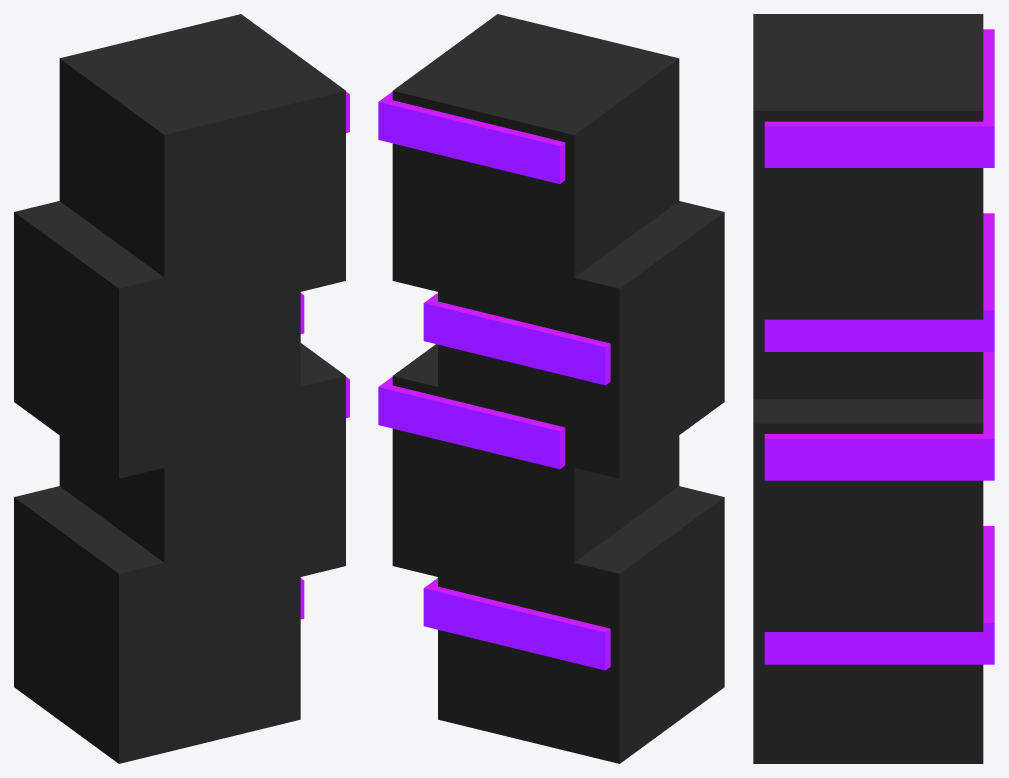
Rendered from building2.fbx.
3 views of the same model, side by side, from view 1: azimuth 30°, elevation 25°; view 2: azimuth 150°, elevation 25°; view 3: azimuth 270°, elevation 25° (orthographic). The views are drawn at different scales.
Visible parts, largest first — view 1: Cube_3, Cube, Cube_2, Cube_1; view 2: Cube_3, Cube, Cube_2, Cube_1, Cube_7, Cube_6, Cube_5, Cube_4; view 3: Cube_3, Cube_1, Cube, Cube_7, Cube_5, Cube_2, Cube_4, Cube_6.
Part boxes in pixels (x1=…): Cube_3: x1=59, y1=14, x2=345, y2=324; Cube: x1=14, y1=486, x2=300, y2=763; Cube_2: x1=14, y1=201, x2=300, y2=478; Cube_1: x1=59, y1=343, x2=345, y2=610; Cube_3: x1=392, y1=14, x2=679, y2=324; Cube: x1=438, y1=486, x2=724, y2=763; Cube_2: x1=438, y1=201, x2=724, y2=478; Cube_1: x1=392, y1=344, x2=679, y2=609; Cube_7: x1=378, y1=91, x2=565, y2=183; Cube_6: x1=423, y1=293, x2=610, y2=385; Cube_5: x1=378, y1=377, x2=565, y2=469; Cube_4: x1=423, y1=578, x2=610, y2=670; Cube_3: x1=753, y1=14, x2=983, y2=319; Cube_1: x1=753, y1=399, x2=983, y2=631; Cube: x1=753, y1=632, x2=983, y2=763; Cube_7: x1=764, y1=29, x2=994, y2=167; Cube_5: x1=764, y1=352, x2=994, y2=480; Cube_2: x1=753, y1=319, x2=983, y2=399; Cube_4: x1=764, y1=526, x2=994, y2=664; Cube_6: x1=764, y1=213, x2=994, y2=351.
Size of the model in its own units: 260 by 650 by 210.
